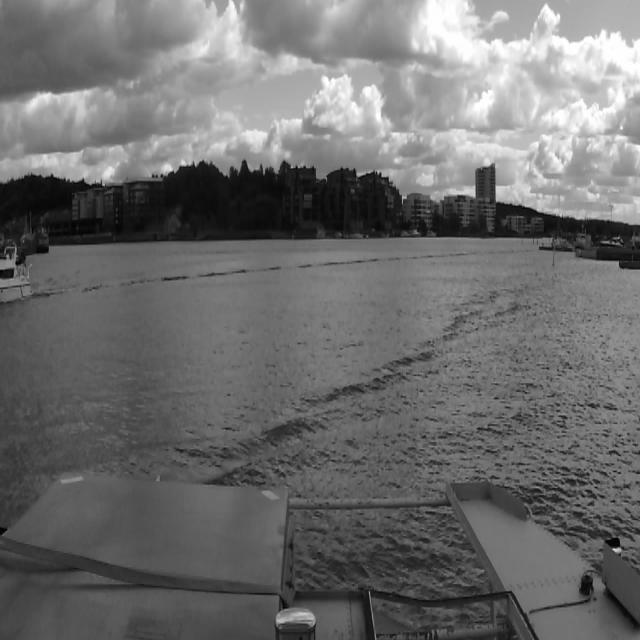ship: (0, 241, 32, 303)
